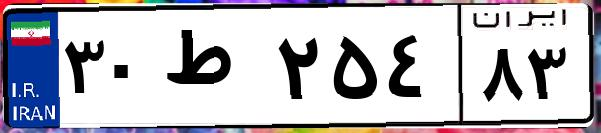0: (110, 28, 158, 98)
2: (270, 28, 330, 110)
3: (57, 26, 110, 100), (525, 38, 570, 115)
4: (385, 28, 445, 110)
5: (330, 28, 385, 110)
8: (475, 38, 525, 113)
ط: (158, 20, 270, 120)
